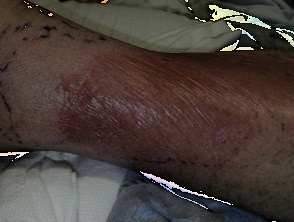SJS-TEN: (40, 17, 294, 182)
